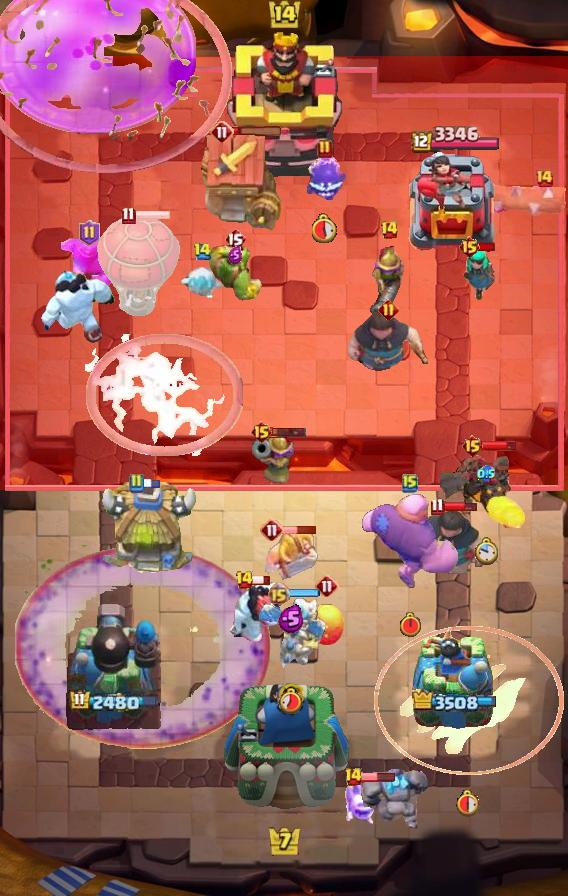archer-evolution: (440, 448, 532, 528)
balloon: (359, 492, 461, 592)
barbarian-evolution: (85, 334, 243, 456)
bat: (179, 265, 225, 299)
bomb-tower: (368, 235, 410, 323), (252, 431, 294, 499)
cannon-cart: (96, 211, 182, 319)
electro-spirit: (278, 604, 304, 634), (477, 465, 495, 483), (228, 246, 242, 264)
elixir: (312, 213, 338, 243), (456, 787, 482, 816), (278, 686, 304, 714), (474, 537, 498, 566), (398, 612, 422, 638)
emote: (232, 126, 284, 137), (442, 499, 478, 512), (134, 209, 171, 221), (269, 426, 306, 438), (481, 440, 517, 452), (360, 771, 396, 783), (282, 525, 318, 535), (287, 588, 321, 598), (478, 241, 498, 253), (251, 574, 271, 586), (143, 477, 162, 489)
flying-machine: (207, 241, 263, 301)
goblin-giant: (266, 528, 319, 580)
hog: (307, 603, 347, 647)
ice-wizard: (374, 625, 564, 775)
king-tower: (219, 678, 349, 826), (224, 29, 344, 181)
knight-evolution: (0, 0, 196, 134)
mini-pekka: (255, 593, 327, 673)
minion: (465, 179, 568, 217)
mirror: (344, 776, 384, 826)
prince: (97, 482, 199, 578)
queen-tower: (408, 152, 498, 256), (411, 627, 495, 731)
rage: (39, 262, 119, 344), (226, 580, 290, 646)
rocket: (15, 545, 271, 749)
royal-hog: (399, 508, 493, 574), (345, 308, 431, 376)
selected: (409, 126, 500, 154), (68, 689, 160, 714), (410, 689, 496, 713)
skeleton-barrel: (0, 0, 232, 175)
sparky: (195, 134, 281, 232)
spear-goblin: (301, 154, 349, 200)
text: (210, 120, 234, 144), (260, 518, 284, 542), (315, 574, 339, 598), (459, 235, 482, 259), (251, 420, 274, 444), (461, 434, 484, 458), (80, 220, 101, 246), (267, 582, 290, 605), (224, 227, 246, 251), (378, 299, 399, 321), (534, 168, 554, 188), (381, 220, 400, 240), (234, 570, 253, 590), (344, 767, 363, 787), (193, 243, 212, 261), (317, 139, 333, 159), (128, 473, 144, 493), (402, 473, 418, 493), (431, 497, 446, 515), (121, 206, 135, 225)
tornado: (61, 238, 117, 296)
tower-bar: (64, 601, 164, 731)
valkyrie-evolution: (357, 764, 429, 832)
witch: (460, 246, 508, 304)
